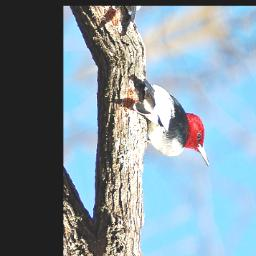Woodpecker: (127, 58, 213, 195)
